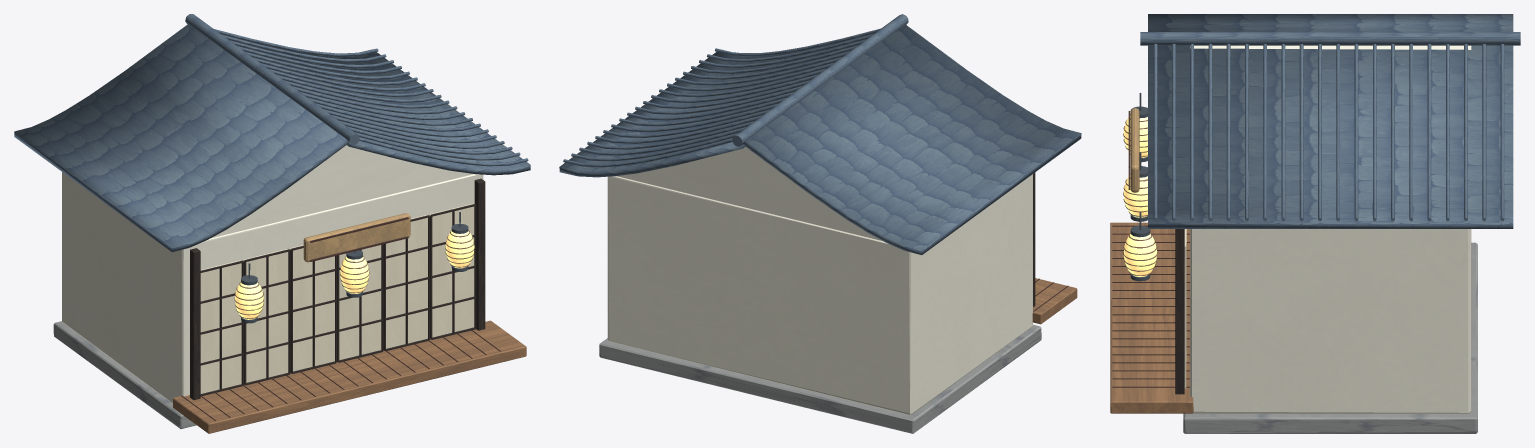
The model's file is house_4.glb.
3 renders of one model, left to right at view 1: azimuth 30°, elevation 25°; view 2: azimuth 150°, elevation 25°; view 3: azimuth 270°, elevation 25°, orthographic. The views are drawn at different scales.
Parts seen in each view (by area): view 1: house_4; view 2: house_4; view 3: house_4.
Part boxes in pixels (x1=…): house_4: x1=14, y1=14, x2=530, y2=433; house_4: x1=559, y1=14, x2=1081, y2=433; house_4: x1=1110, y1=14, x2=1520, y2=433.
Bounding box in the file's own units: 6.3 × 4.56 × 5.4.
Materials: 3 (3 with a texture image).
